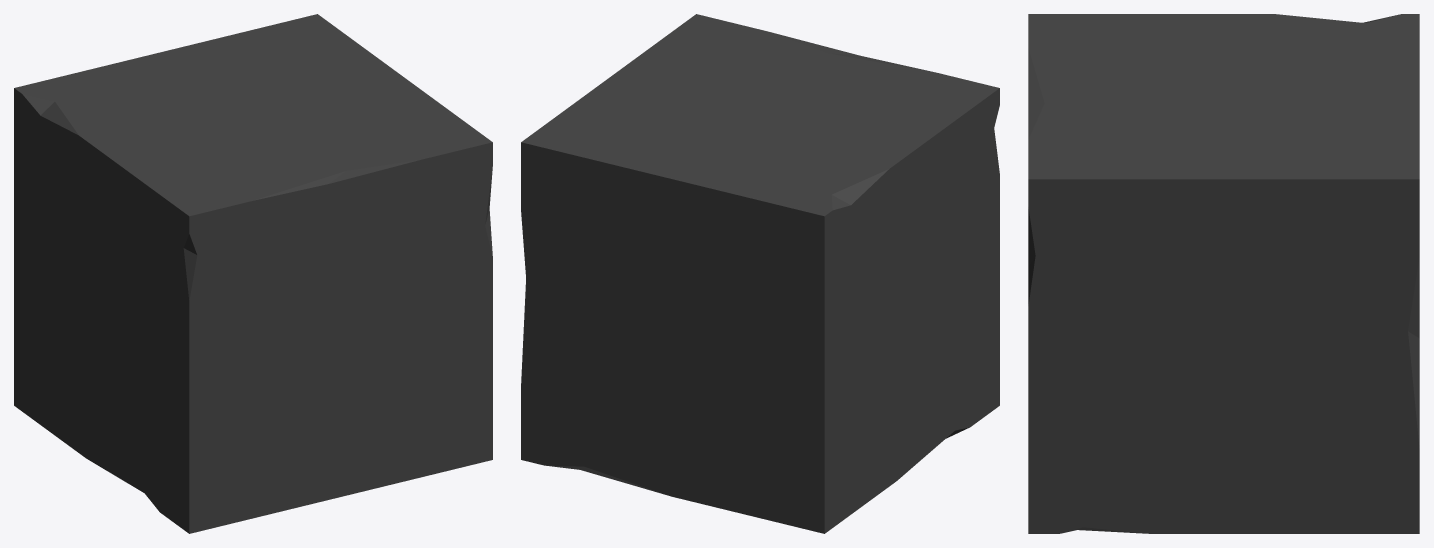
Rendered from SW_ENV_ConcreteCube_Drk.fbx.
The picture shows the model from 3 angles, left to right: view 1: azimuth 30°, elevation 25°; view 2: azimuth 150°, elevation 25°; view 3: azimuth 270°, elevation 25°; orthographic projection. The views are drawn at different scales.
Visible parts, largest first — view 1: SW_ENV_ConcreteCube_Drk; view 2: SW_ENV_ConcreteCube_Drk; view 3: SW_ENV_ConcreteCube_Drk.
Boxes of the visible parts, x1,y1,x2,y2 form: SW_ENV_ConcreteCube_Drk: (14, 14, 492, 533); SW_ENV_ConcreteCube_Drk: (521, 14, 999, 533); SW_ENV_ConcreteCube_Drk: (1028, 14, 1419, 533).
Bounding box in the file's own units: 45 × 45 × 45.
